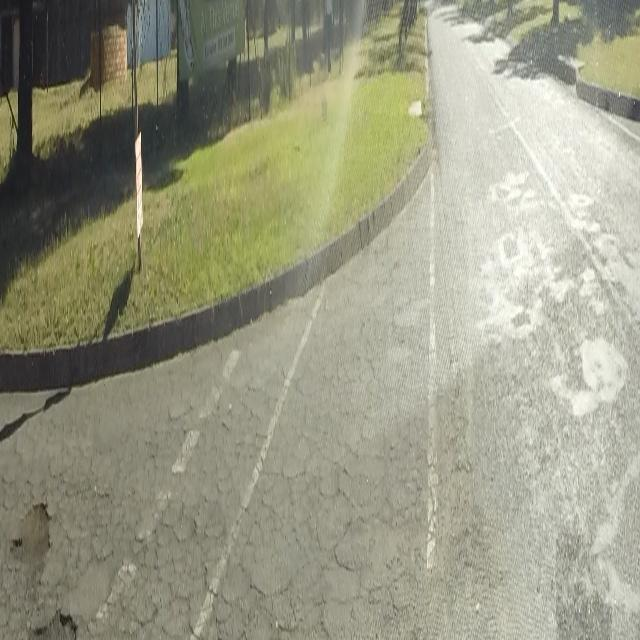pothole: (6, 496, 57, 576)
